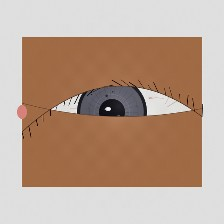pinguecula_lesion: (24, 97, 53, 120)
